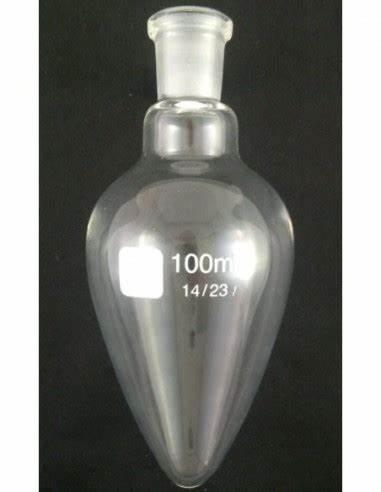Pear shaped flask: (72, 7, 298, 485)
